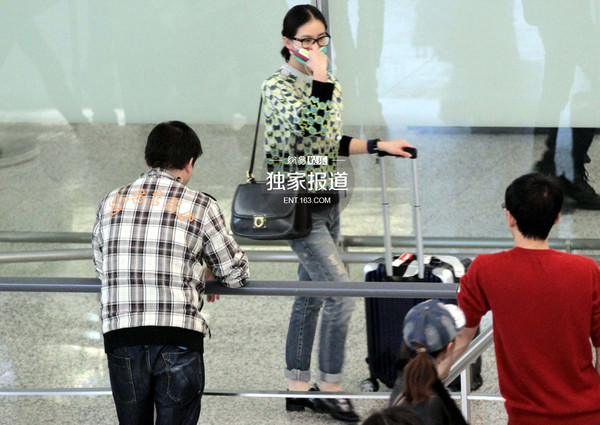face_mask: (297, 21, 327, 66)
